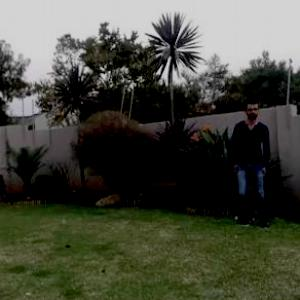follow: (231, 94, 271, 233)
